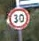limite 30: (7, 6, 30, 28)
